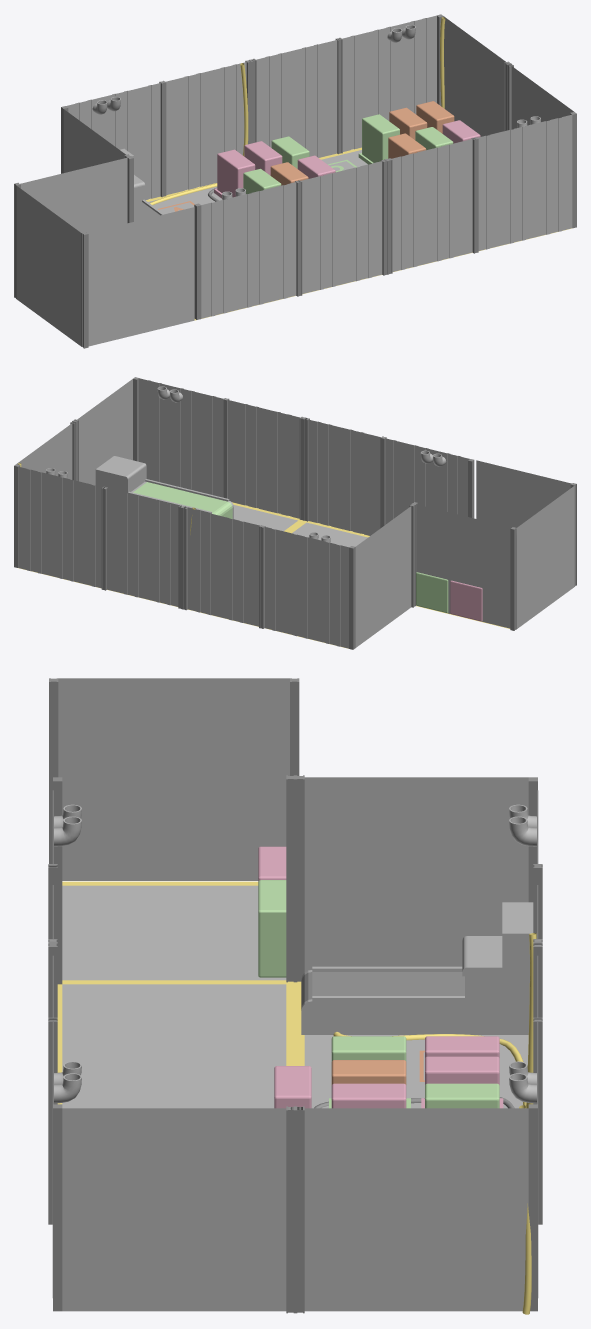
Rendered from environment.fbx.
The picture shows the model from 3 angles, top to bottom: view 1: azimuth 30°, elevation 25°; view 2: azimuth 150°, elevation 25°; view 3: azimuth 270°, elevation 25°; orthographic projection. The views are drawn at different scales.
Parts seen in each view (by area): view 1: wall, pillar.004, floor_tile, Cube.023, Cube.029, line1, pipe, Cube.027, Cube.021, Cube.003, machine.001, Cube.025 (+6 smaller); view 2: wall, pillar.004, machine, floor_tile, machine.001, Cube.019, Cube.016, pipe; view 3: wall, floor_tile, pillar.004, machine.001, pipe, Cube.016, Cube.027, line1, Cube.026, Cube.025, Cube.030, Cube.028 (+3 smaller).
Part boxes in pixels (box(x1,y1,x2,y2)): wall: box(16, 15, 573, 346); pillar.004: box(14, 14, 576, 348); floor_tile: box(146, 147, 571, 320); Cube.023: box(358, 114, 399, 164); Cube.029: box(214, 149, 255, 198); line1: box(150, 17, 445, 205); pipe: box(92, 25, 540, 199); Cube.027: box(244, 141, 282, 175); Cube.021: box(389, 107, 427, 139); Cube.003: box(416, 101, 454, 133); machine.001: box(120, 148, 164, 221); Cube.025: box(271, 136, 309, 168); wall: box(17, 378, 574, 648); pillar.004: box(14, 377, 576, 649); machine: box(95, 456, 233, 518); floor_tile: box(18, 502, 509, 648); machine.001: box(297, 585, 325, 642); Cube.019: box(450, 580, 482, 621); Cube.016: box(416, 572, 448, 613); pipe: box(46, 386, 446, 542); wall: box(52, 678, 538, 1311); floor_tile: box(57, 881, 528, 1108); pillar.004: box(48, 678, 542, 1313); machine.001: box(301, 902, 533, 1034); pipe: box(54, 804, 536, 1103); Cube.016: box(258, 880, 286, 977); Cube.027: box(425, 1056, 499, 1085); line1: box(333, 933, 536, 1314); Cube.026: box(331, 1083, 406, 1108); Cube.025: box(425, 1083, 499, 1108); Cube.030: box(329, 1036, 410, 1108); Cube.028: box(331, 1060, 406, 1085).
Size of the model in its own units: 2742 by 613 by 1325.
